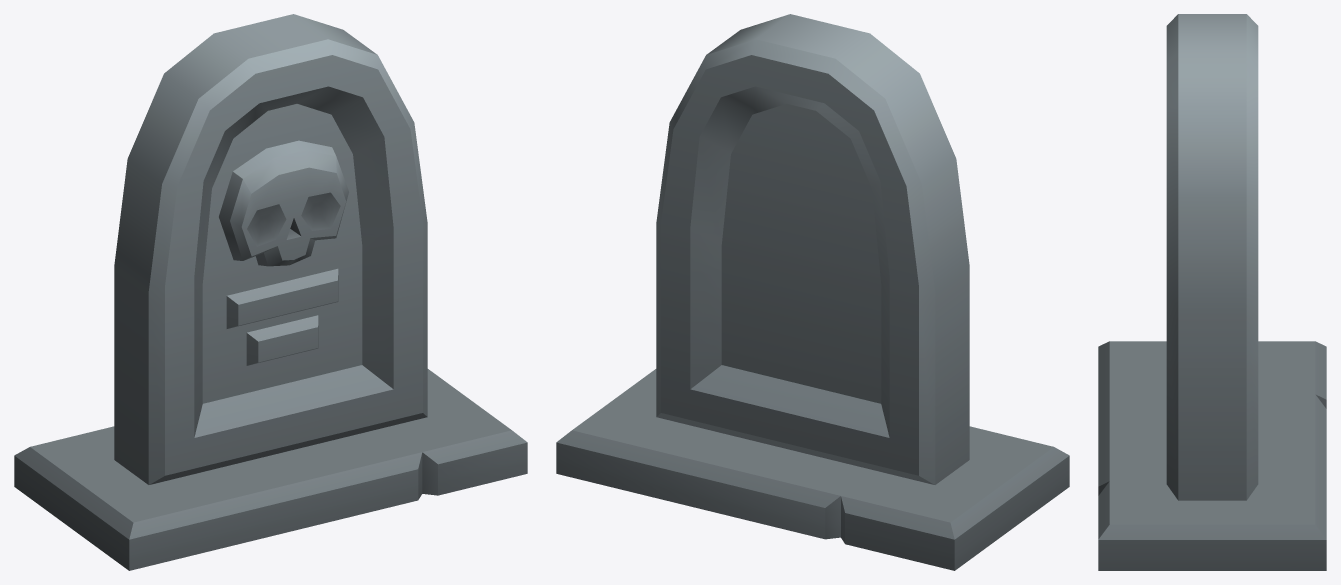
The model's file is grave_A.glb.
The picture shows the model from 3 angles, left to right: view 1: azimuth 30°, elevation 25°; view 2: azimuth 150°, elevation 25°; view 3: azimuth 270°, elevation 25°; orthographic projection.
Visible parts, largest first — view 1: grave_A; view 2: grave_A; view 3: grave_A.
Boxes of the visible parts, <box> form: grave_A: <box>14,14,527,570</box>; grave_A: <box>556,14,1069,570</box>; grave_A: <box>1098,14,1326,570</box>.
Size of the model in its own units: 2 by 2.13 by 1.
1 material, 1 textured.
